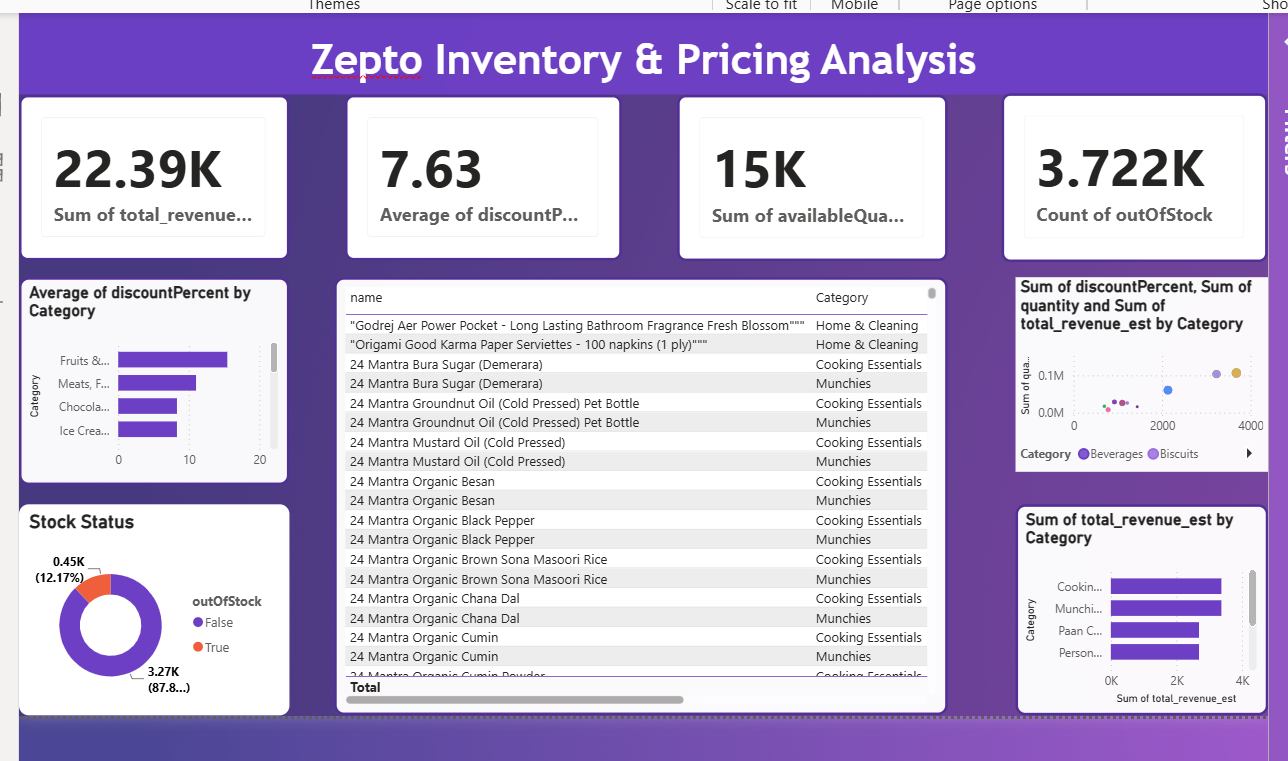

The dashboard page shown, as its layout file describes it:
{"tool":"powerbi","page":{"name":"Page 1","canvas":[1280,720],"ordinal":0},"visuals":[{"type":"textbox","box":[0,0,1279.4,83.7],"z":0},{"type":"clusteredBarChart","fields":{"Category":["sqlquery.Category"],"Y":["Avg(sqlquery.discountPercent)"]},"box":[0,270.8,276.9,213],"z":1000},{"type":"cardVisual","fields":{"Data":["Avg(sqlquery.discountPercent)"]},"box":[333.9,83.9,283.3,169.3],"z":2000},{"type":"cardVisual","fields":{"Data":["Sum(sqlquery.total_revenue_est)"]},"box":[0,83.9,277,169.3],"z":3000},{"type":"cardVisual","fields":{"Data":["Sum(sqlquery.availableQuantity)"]},"box":[673.9,83.7,276.9,170.4],"z":4000},{"type":"cardVisual","fields":{"Data":["CountNonNull(sqlquery.outOfStock)"]},"box":[1006.6,82.3,272.2,172.5],"z":5000},{"type":"donutChart","title":"Stock Status","fields":{"Category":["sqlquery.outOfStock"],"Y":["CountNonNull(sqlquery.name)"]},"box":[0,503.5,276.9,216],"z":6000},{"type":"tableEx","fields":{"Values":["sqlquery.name","sqlquery.Category","Sum(sqlquery.mrp)","Sum(sqlquery.discountedSellingPrice)","Sum(sqlquery.availableQuantity)"]},"box":[322.5,270.8,628.3,448.8],"z":7000},{"type":"scatterChart","fields":{"X":["Sum(sqlquery.discountPercent)"],"Y":["Sum(sqlquery.quantity)"],"Series":["sqlquery.Category"],"Size":["Sum(sqlquery.total_revenue_est)"]},"box":[1020.7,270.8,258.6,199.3],"z":8000},{"type":"clusteredBarChart","fields":{"Category":["sqlquery.Category"],"Y":["Sum(sqlquery.total_revenue_est)"]},"box":[1020.7,503.5,258.6,216],"z":9000}]}

Visuals, with their boxes in screenshot pixels (x1, y1, x2, y2):
textbox: [x1=13, y1=7, x2=1283, y2=90]
clusteredBarChart - sqlquery.Category x Avg(sqlquery.discountPercent): [x1=13, y1=275, x2=288, y2=487]
cardVisual - Avg(sqlquery.discountPercent): [x1=345, y1=90, x2=626, y2=258]
cardVisual - Sum(sqlquery.total_revenue_est): [x1=13, y1=90, x2=288, y2=258]
cardVisual - Sum(sqlquery.availableQuantity): [x1=682, y1=90, x2=957, y2=259]
cardVisual - CountNonNull(sqlquery.outOfStock): [x1=1012, y1=88, x2=1282, y2=260]
"Stock Status" donutChart: [x1=13, y1=506, x2=288, y2=721]
tableEx - sqlquery.name x sqlquery.Category: [x1=333, y1=275, x2=957, y2=721]
scatterChart - Sum(sqlquery.discountPercent) x Sum(sqlquery.quantity): [x1=1026, y1=275, x2=1283, y2=473]
clusteredBarChart - sqlquery.Category x Sum(sqlquery.total_revenue_est): [x1=1026, y1=506, x2=1283, y2=721]
